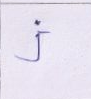anusvara: (35, 20, 40, 24)
